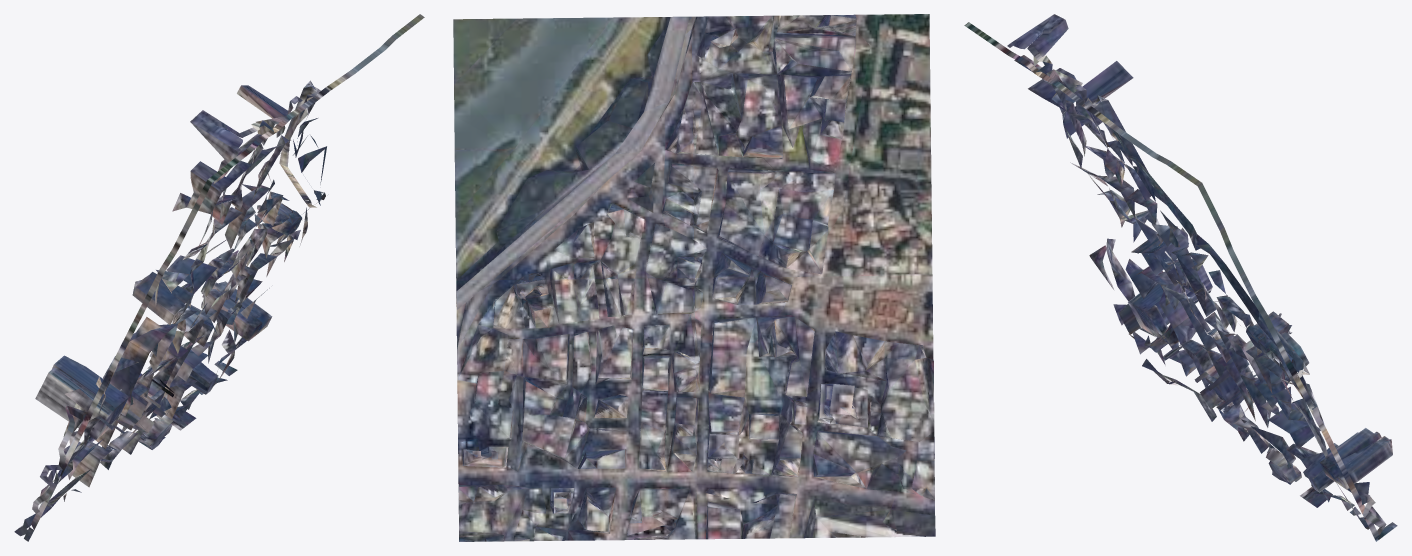
3 views of the same model, side by side, from view 1: azimuth 30°, elevation 25°; view 2: azimuth 150°, elevation 25°; view 3: azimuth 270°, elevation 25° (orthographic). The views are drawn at different scales.
Bounding box in the file's own units: 619 × 592 × 538.
Materials: 1 (1 with a texture image).
